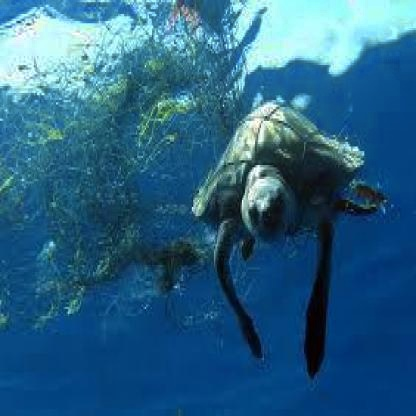net: (1, 2, 237, 314)
